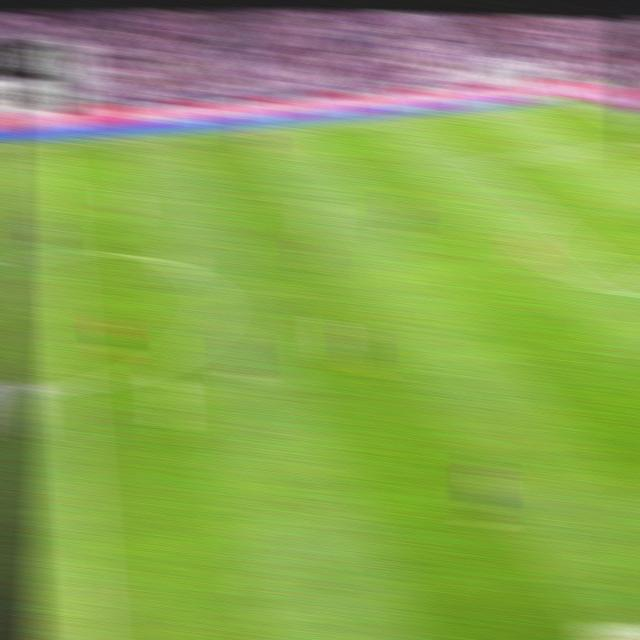bigarea_top_inner: (465, 152, 493, 170)
corner: (564, 95, 592, 109)
halfcircle_bottom: (58, 371, 90, 399)
halfcircle_top: (46, 240, 77, 266)
midline_top_intersection: (37, 136, 64, 154)
top_arc_area_intersection: (531, 204, 559, 222)
